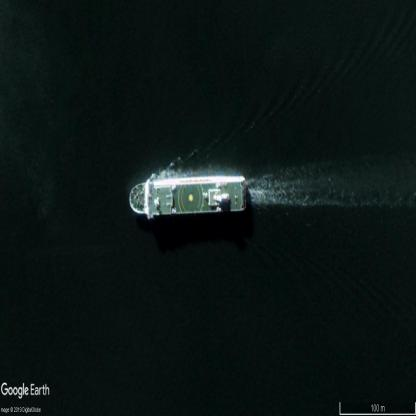ship: (131, 176, 247, 212)
